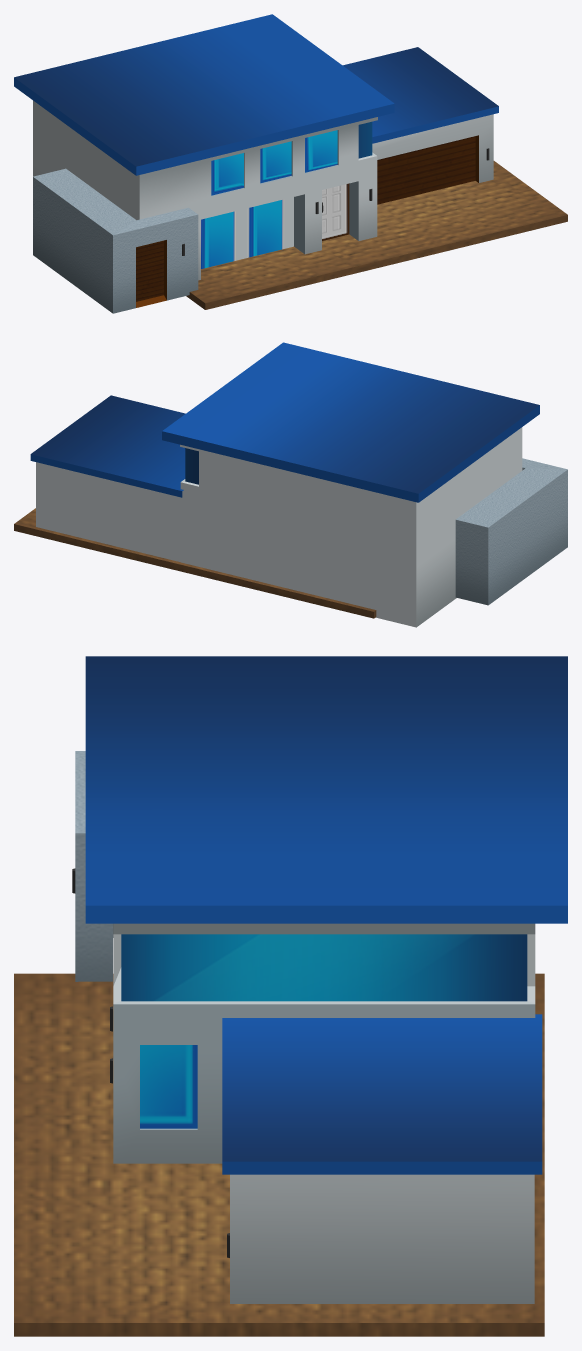
The model's file is Tx_Exterior_Property_BungalowT1.fbx.
The picture shows the model from 3 angles, top to bottom: view 1: azimuth 30°, elevation 25°; view 2: azimuth 150°, elevation 25°; view 3: azimuth 270°, elevation 25°; orthographic projection. The views are drawn at different scales.
Visible parts, largest first — view 1: Bunglow_T1, Bunglow_T1_ground; view 2: Bunglow_T1, Bunglow_T1_ground; view 3: Bunglow_T1, Bunglow_T1_ground.
Boxes of the visible parts, <box> form: Bunglow_T1: <box>14,14,498,313</box>; Bunglow_T1_ground: <box>186,161,567,309</box>; Bunglow_T1: <box>30,342,567,627</box>; Bunglow_T1_ground: <box>14,508,376,618</box>; Bunglow_T1: <box>72,656,567,1303</box>; Bunglow_T1_ground: <box>14,973,544,1336</box>.
Bounding box in the file's own units: 27.32 × 8.52 × 15.12.
